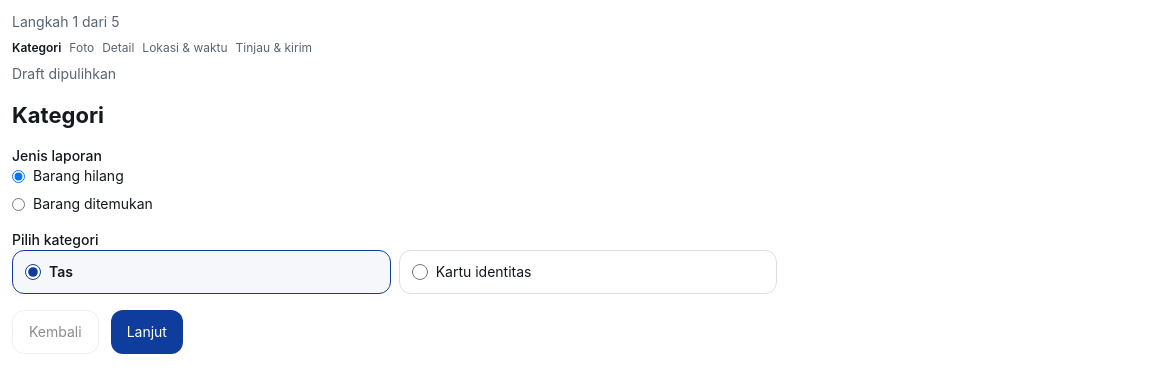
Test case: reports/new wizard › restores a saved draft with its category and photo
The width and height of the screenshot is (1164, 371).
Expected: the message "Draft dipulihkan" is shown, [12,65,116,82]
Expected: the radio button labelled "Barang hilang" is checked, [12,170,25,182]
Click the button with test id "wizard-next".
click(147, 332)  # box [111,310,183,354]
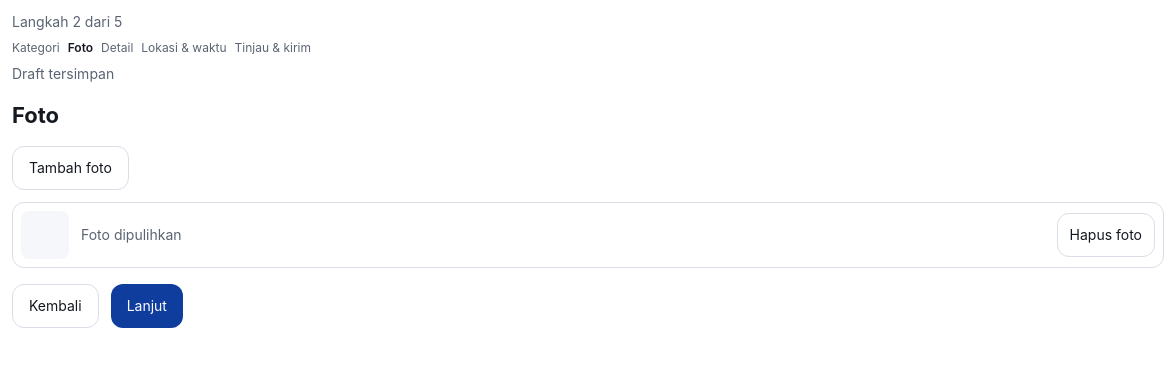
Expected: the list item "Foto" is shown, [68,40,93,56]
Now the list item with test id "photo-uploader-item-0" shows "Foto dipulihkan", box [81,226,182,243]
